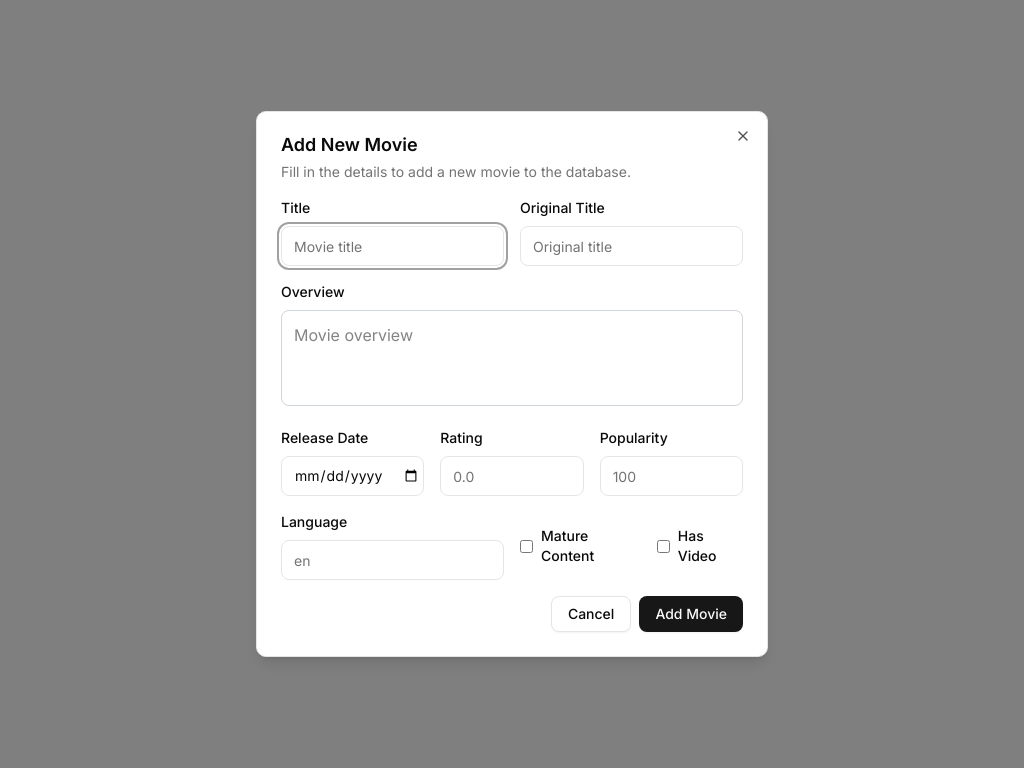
Test case: MovieForm › should validate language format
In the field with placeholder "en": x=392, y=560 [281,540,504,580], type "e"
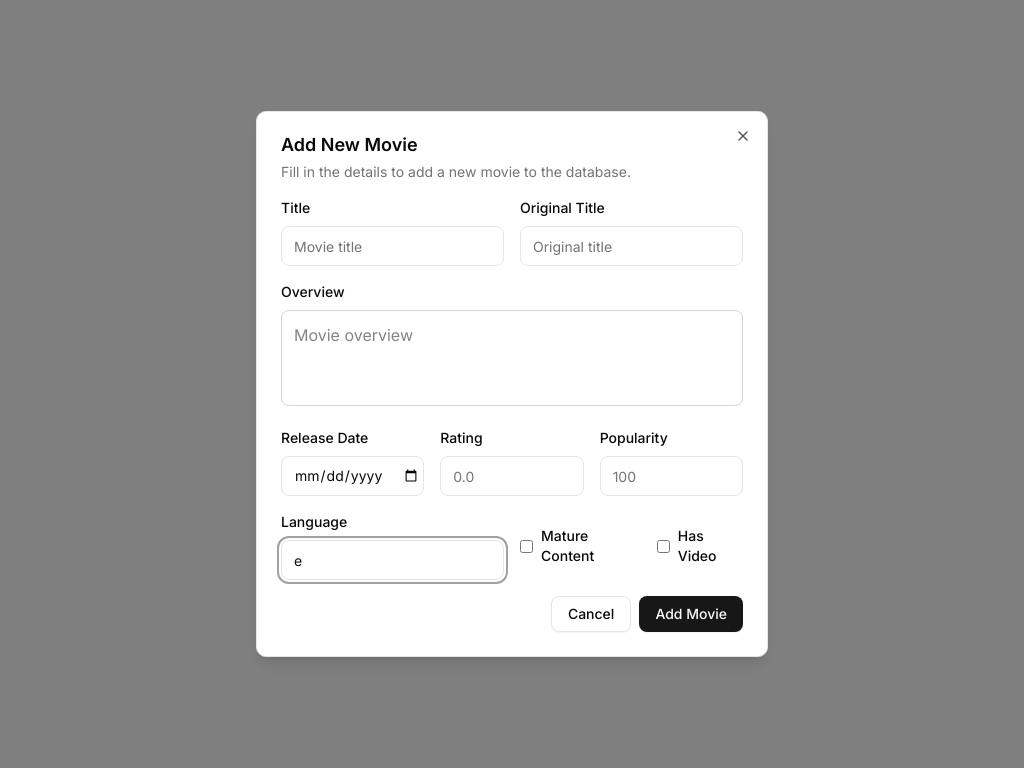
Click the button "Add Movie": x=691, y=614 [639,596,743,632]
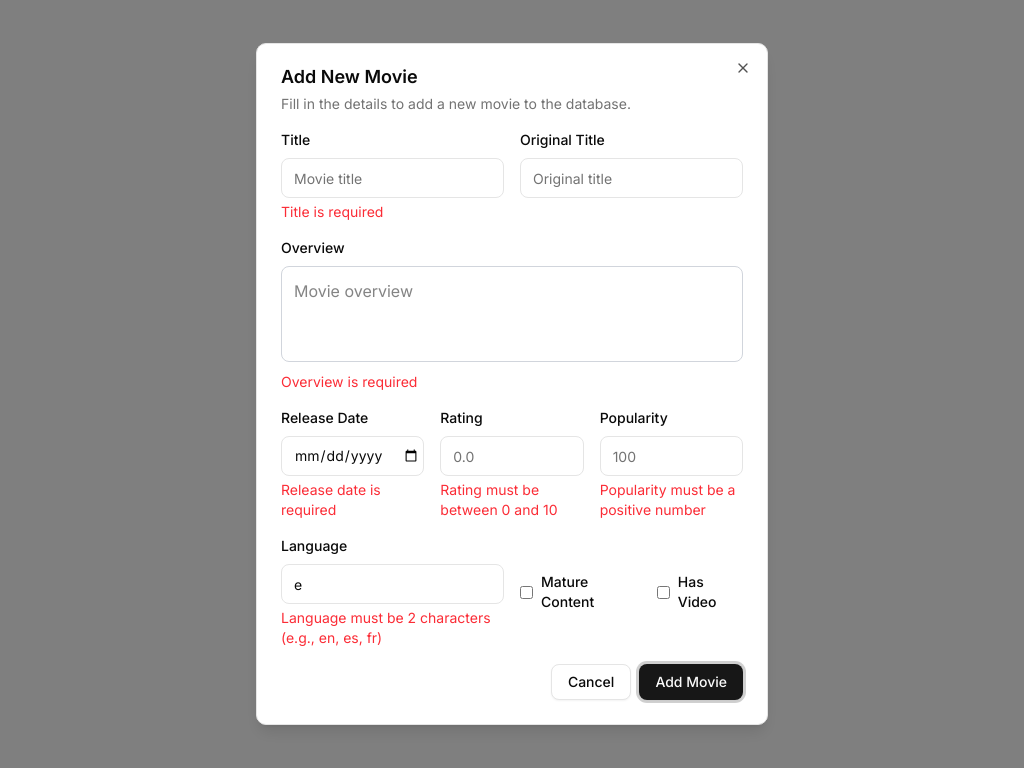
Check: the text "Language must be 2 characters (e.g., en, es, fr)" is shown, box [281,608,504,648]
